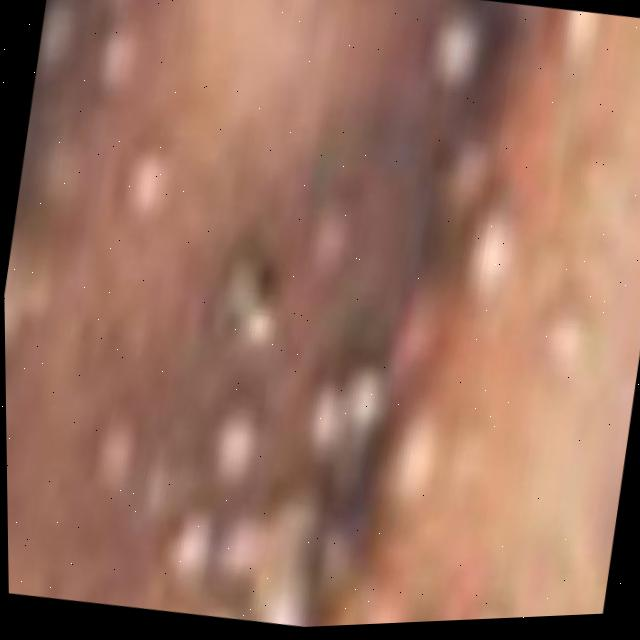Eczema: (0, 0, 573, 620)
